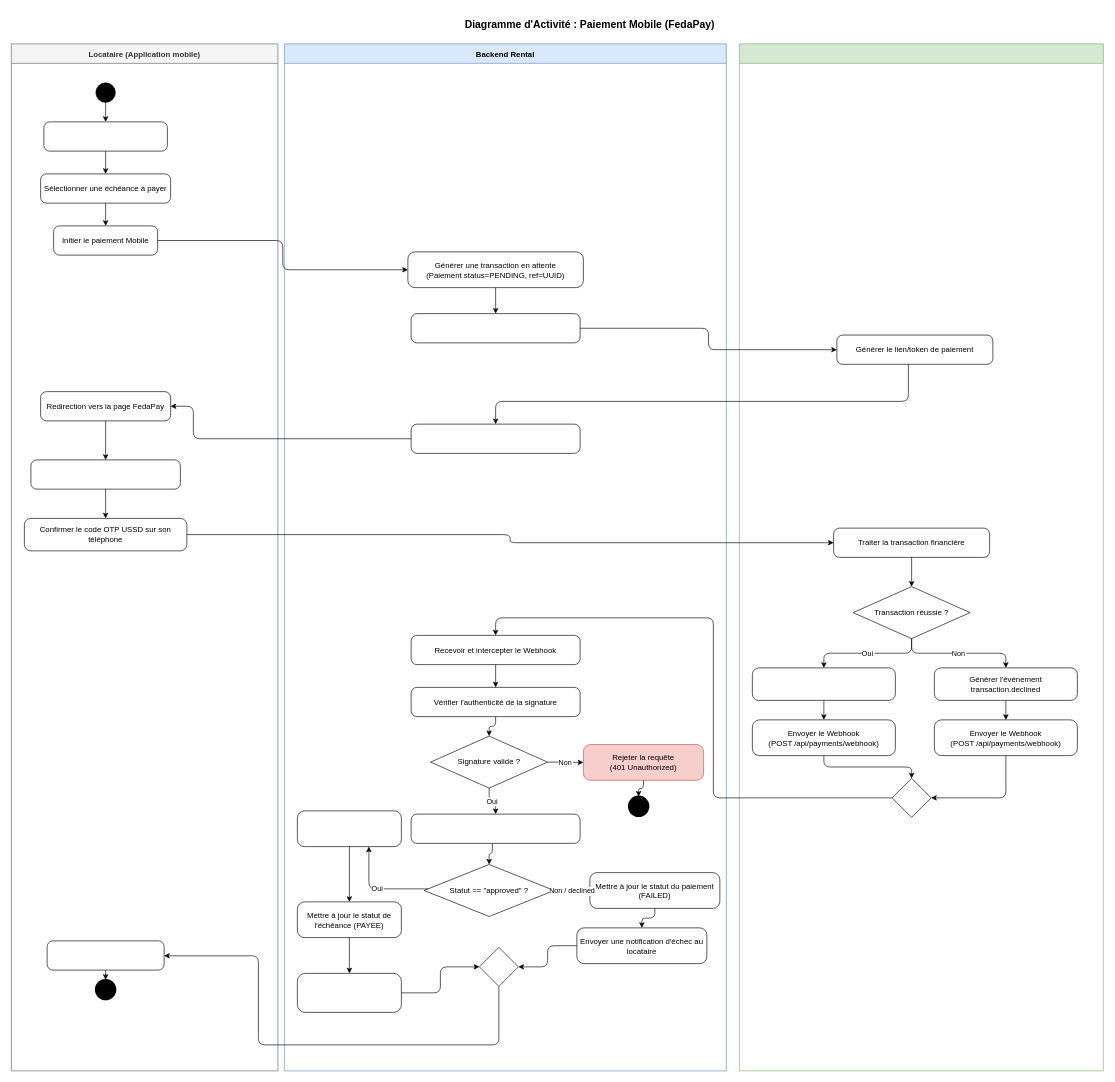
Image size: 1115x1082. Some labels were removed from this diagram. Each missing label, with the box of its shape:
Consulter ses échéances: (43, 121, 167, 151)
Créer la requête de paiement FedaPay: (410, 313, 580, 343)
Envoyer une notification de confirmation (Push via NotificationService): (297, 973, 401, 1012)
Extraire l'ID de transaction et le statut: (410, 813, 580, 843)
FedaPay: (739, 43, 1103, 1071)
Générer l'événement transaction.approved: (752, 667, 895, 700)
Mettre à jour le statut du paiement (SUCCESS): (297, 810, 401, 847)
Recevoir la notification: (46, 940, 164, 970)
Retourner l'URL FedaPay au mobile: (410, 423, 580, 453)
Saisir le numéro (Flooz/TMoney) et valider: (30, 459, 180, 489)
